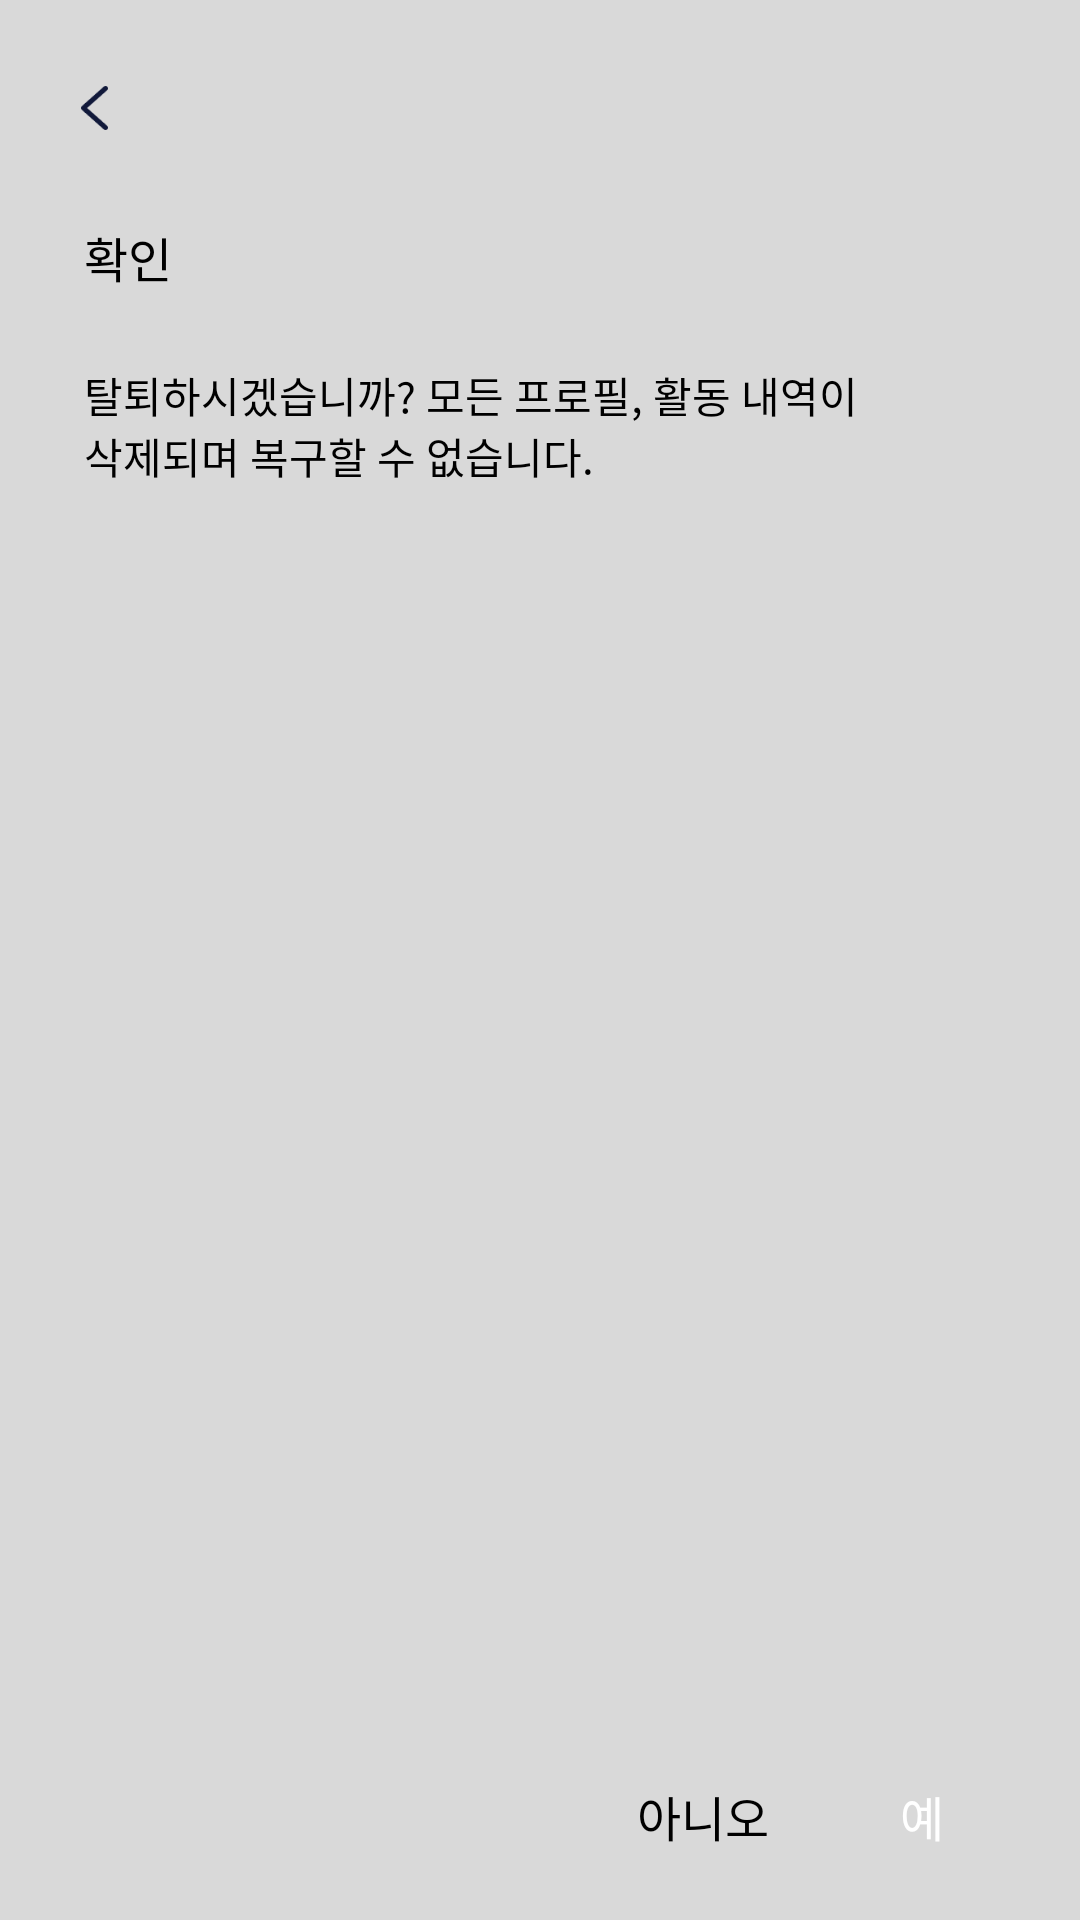

Where to tap for icons on this 1080px x 1920px app screen, as point (x, y):
arrow: point (94, 108)
